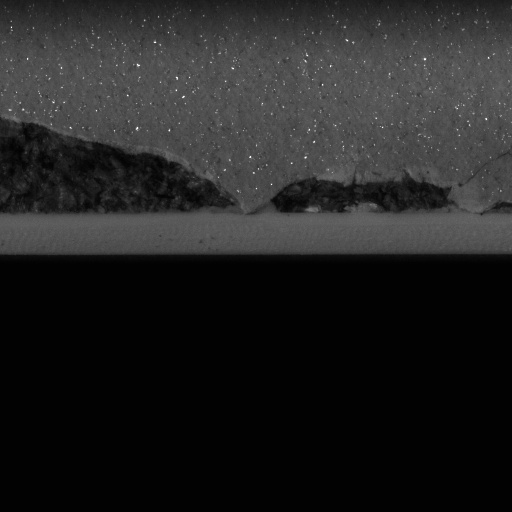bengque: (0, 119, 246, 212), (274, 172, 460, 214)
